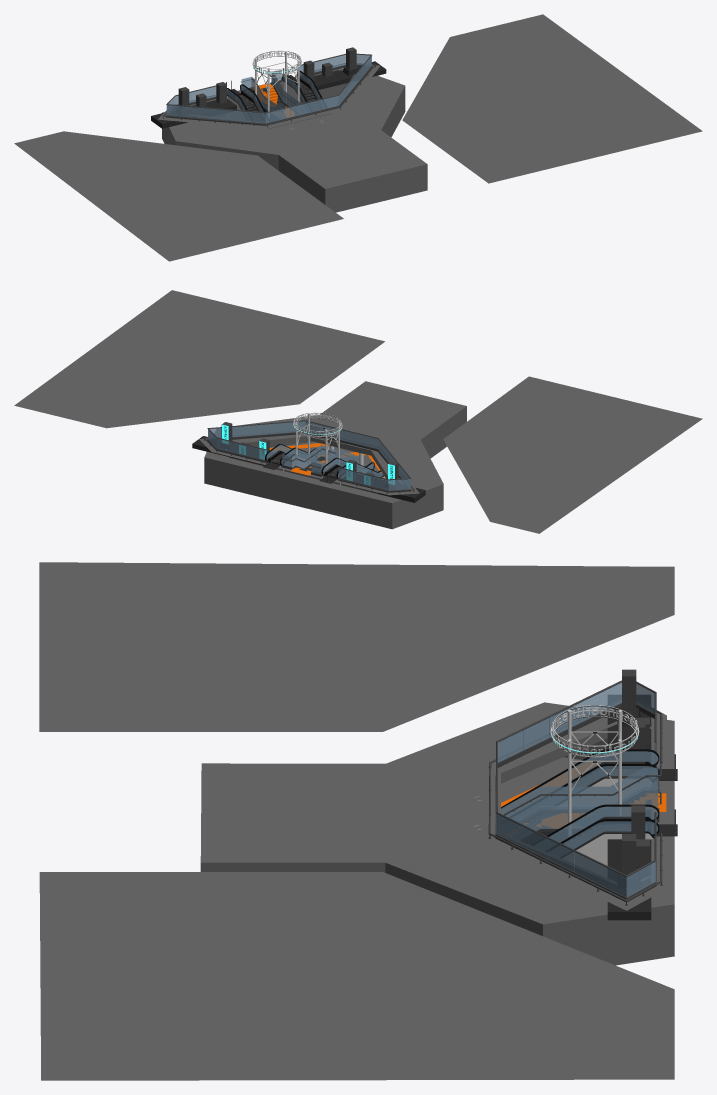
Rendered from Underline.FBX.
The picture shows the model from 3 angles, top to bottom: view 1: azimuth 30°, elevation 25°; view 2: azimuth 150°, elevation 25°; view 3: azimuth 270°, elevation 25°; orthographic projection. The views are drawn at different scales.
Visible parts, largest first — view 1: Object037, Box010; view 2: Object037, Box010; view 3: Object037, Box010.
Part boxes in pixels (x1,y1,x2,y2): Object037: (14, 14, 702, 261); Box010: (151, 47, 386, 129); Object037: (14, 290, 702, 533); Box010: (192, 412, 425, 502); Object037: (39, 562, 674, 1080); Box010: (474, 669, 677, 920).
Size of the model in its own units: 0.4407 by 0.0582 by 0.2297.
12 materials, 1 textured.
